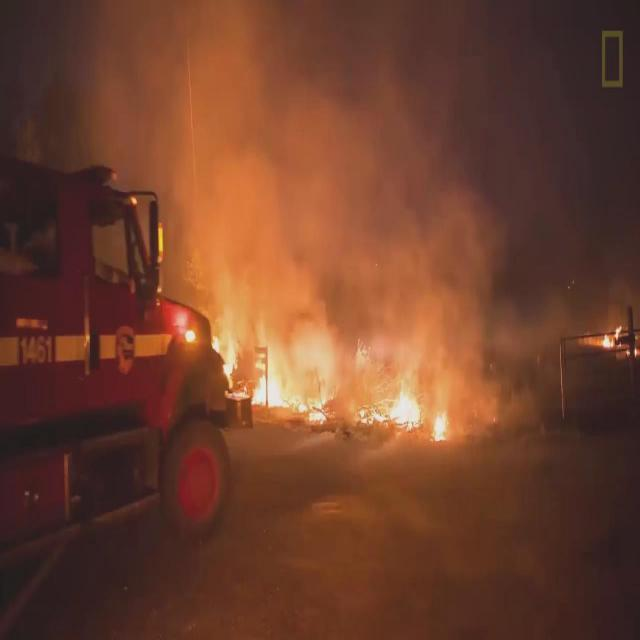Fire: (256, 324, 334, 416), (364, 378, 419, 432), (209, 322, 237, 376), (600, 318, 623, 349), (432, 410, 450, 446)
